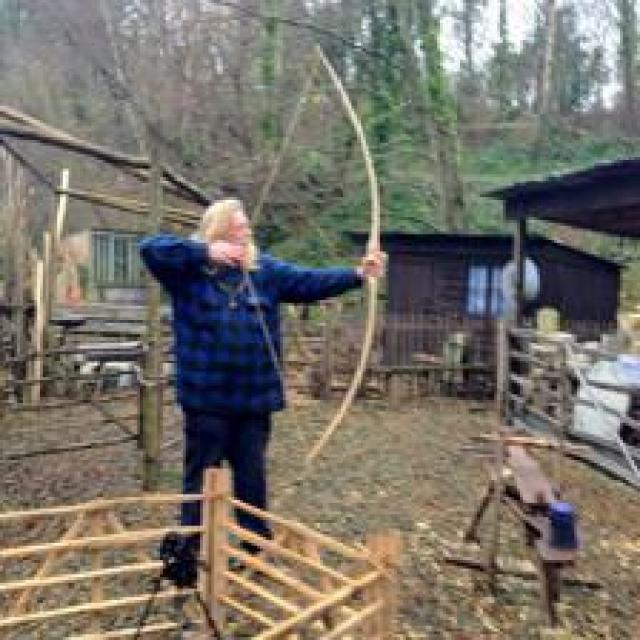X-Bow: (268, 36, 428, 524)
